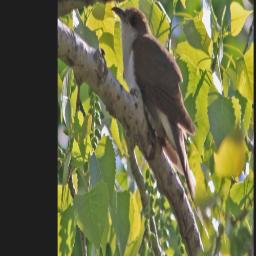Cuckoo: (111, 2, 199, 225)
